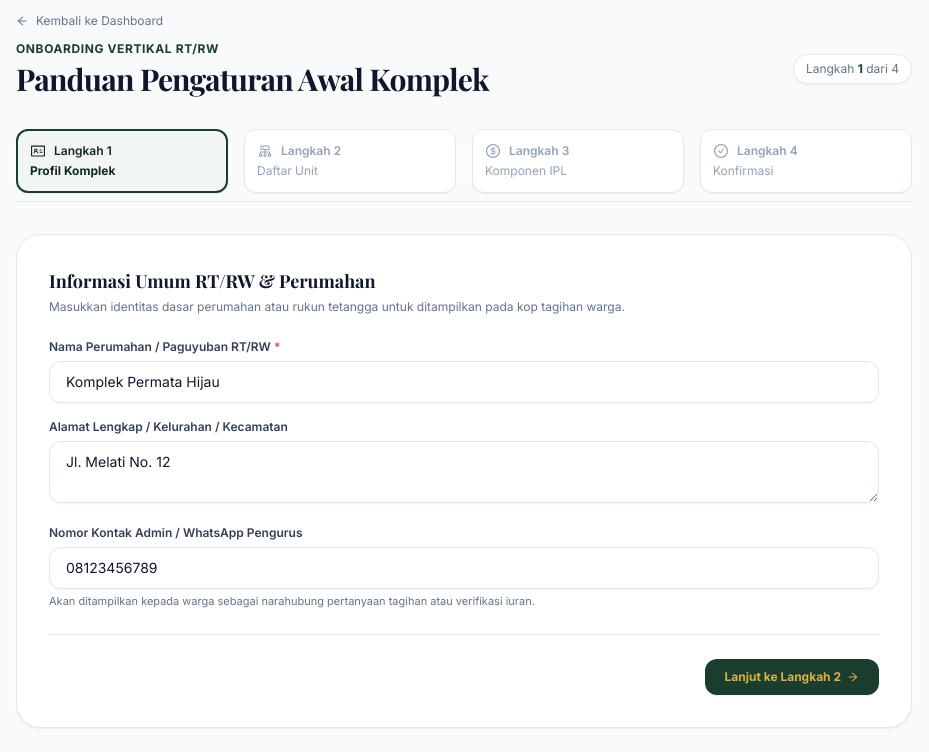
Test: SetupWizard — Logika Idempoten & Aman Dijalankan Ulang (RTRW-2.5) › Component Flow: SetupWizard Execution › b: jika semua unit sudah ada → bulkCreateTenantUnits tidak dipanggil
Expected: the heading "Panduan Pengaturan Awal Komplek" is shown, [16,61,489,97]
# Pindah ke Langkah 4: Konfirmasi
Click the button "Langkah 4 Konfirmasi". click: click(806, 161)
box: [700,129,912,193]
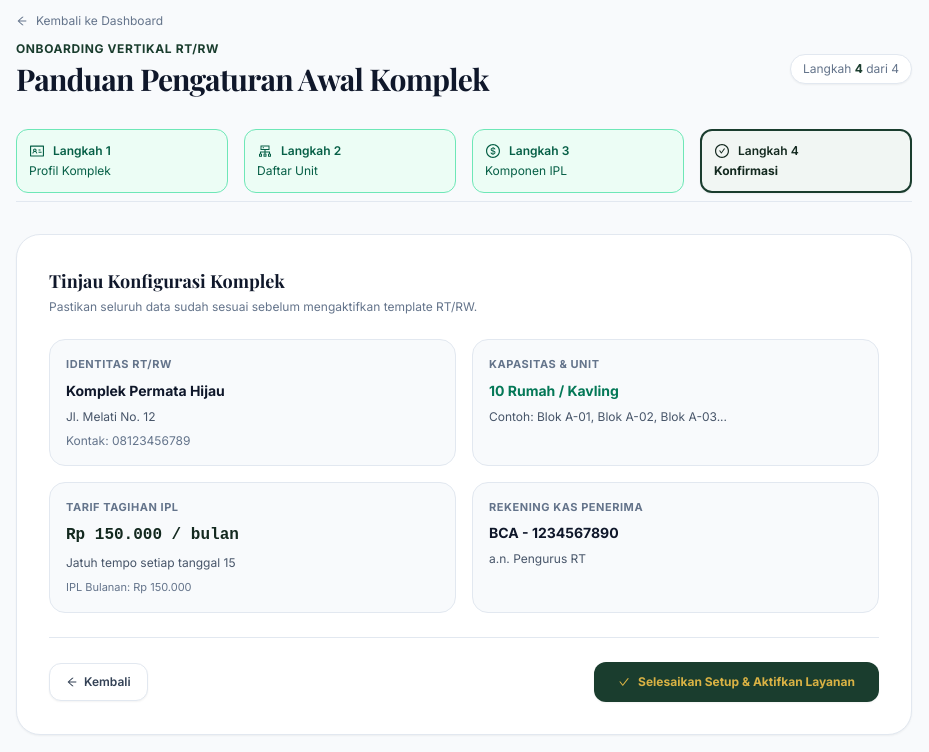
# Klik tombol Simpan & Terapkan Pengaturan
Click the button "Selesaikan Setup & Aktifkan Layanan". click: click(737, 682)
box: [594,662,879,702]
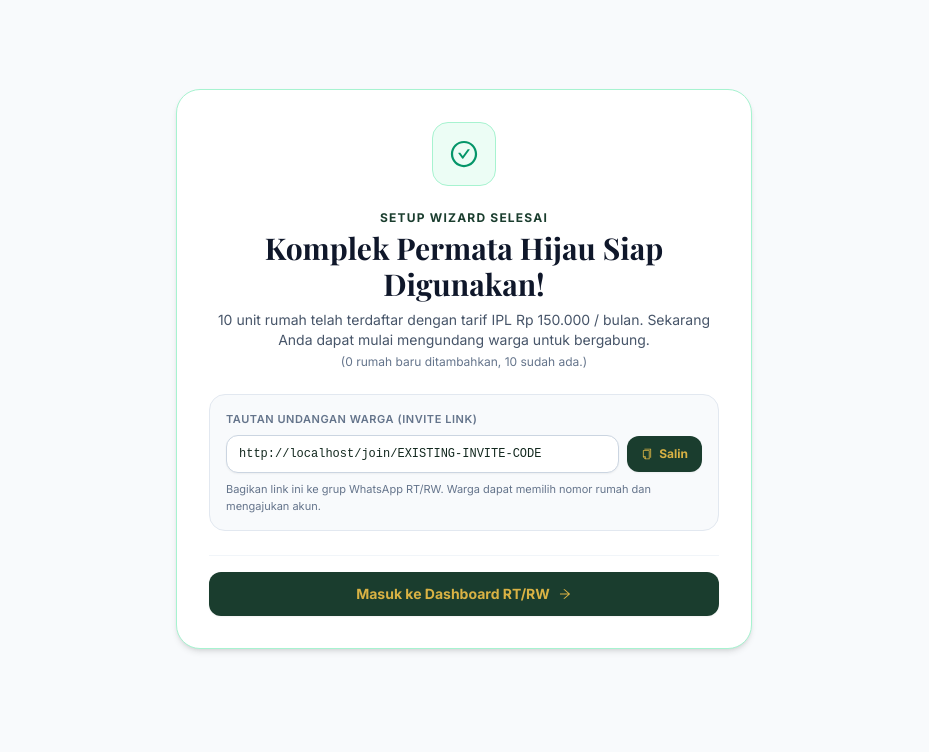
Now the text "Setup Wizard Selesai" is shown, box [380,210,548,225]
Now the text "(0 rumah baru ditambahkan, 10 sudah ada.)" is shown, box [341,354,587,369]
